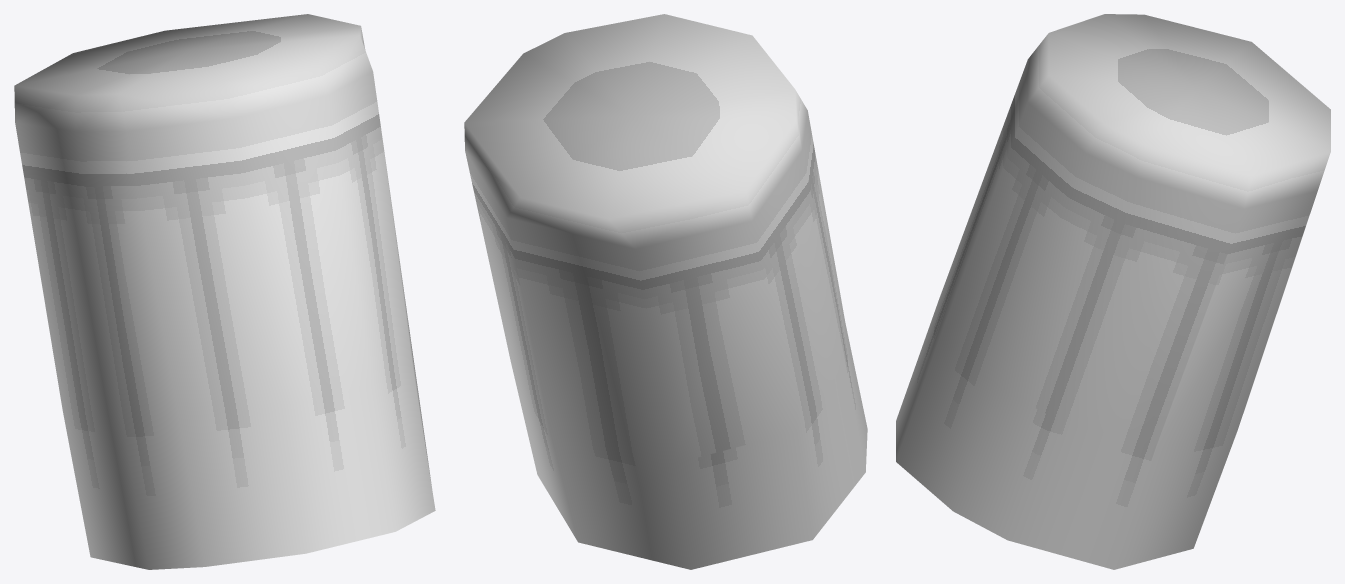
3 renders of one model, left to right at view 1: azimuth 30°, elevation 25°; view 2: azimuth 150°, elevation 25°; view 3: azimuth 270°, elevation 25°, orthographic. The views are drawn at different scales.
Visible parts, largest first — view 1: code_head62; view 2: code_head62; view 3: code_head62.
Boxes of the visible parts, x1=… form: code_head62: x1=14, y1=14, x2=435, y2=569; code_head62: x1=464, y1=14, x2=867, y2=569; code_head62: x1=896, y1=14, x2=1330, y2=569.
Bounding box in the file's own units: 0.5547 × 0.8801 × 0.7417.
1 material, 1 textured.
